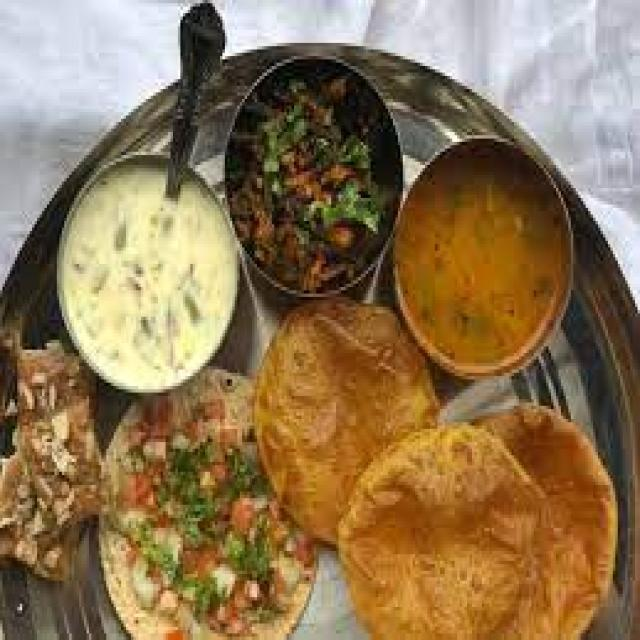dal: (395, 157, 579, 373), (61, 170, 229, 388)
papad: (248, 295, 423, 535)
rice: (343, 412, 624, 636)
roti: (344, 411, 630, 627)
veg-fry: (216, 71, 411, 304)
